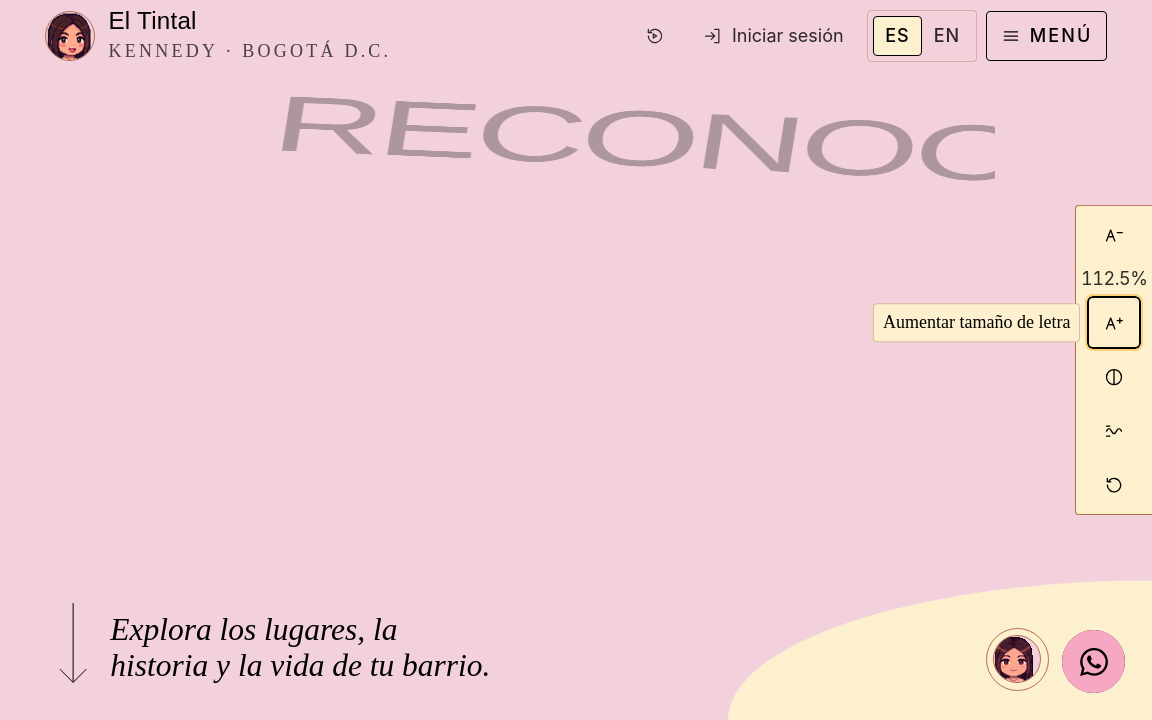
AccessibilityRail › cambia el tamaño de letra en 4 niveles (90–125 %) y lo anuncia
Earlier steps of the test are not shown.
What coordinates should you click on to do the following:
click the button named "Aumentar tamaño de letra"
I would click on:
 (1114, 323)
Its box is top-left (1090, 298), bottom-right (1139, 347).
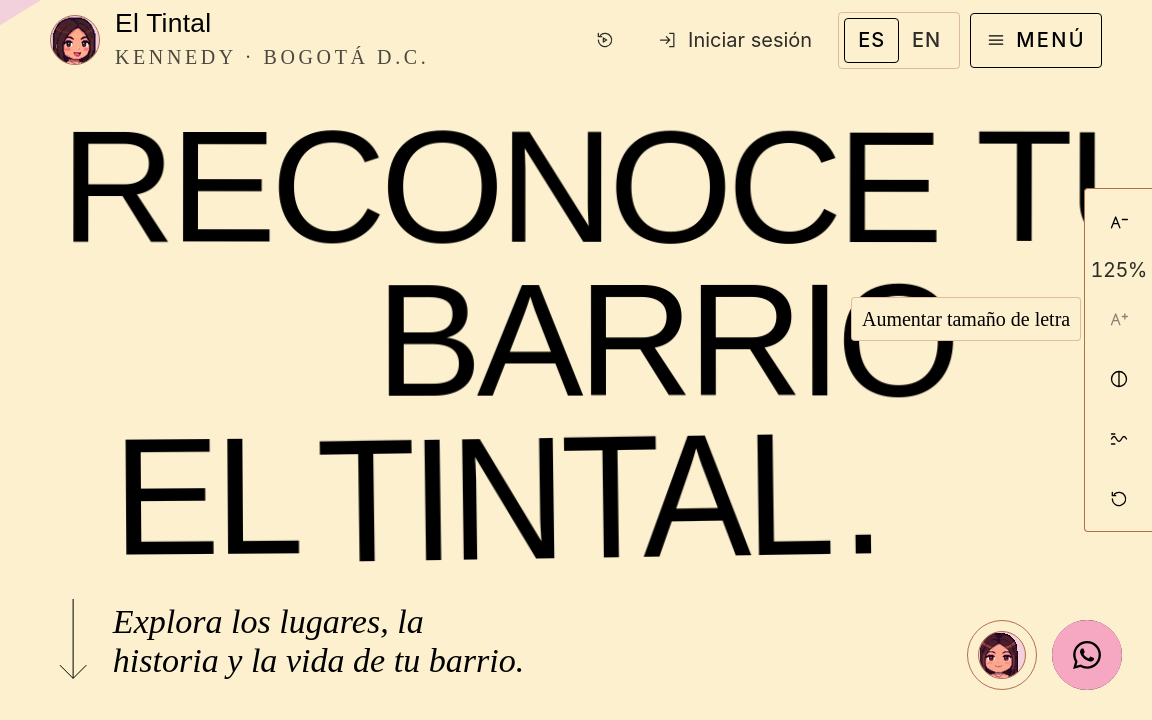
Check: the button named "Aumentar tamaño de letra" is disabled, box top-left (1091, 291), bottom-right (1146, 346)
What coordinates should you click on to do the following:
click the button named "Reducir tamaño de letra"
I would click on:
 (1119, 222)
Its box is top-left (1091, 194), bottom-right (1146, 249).
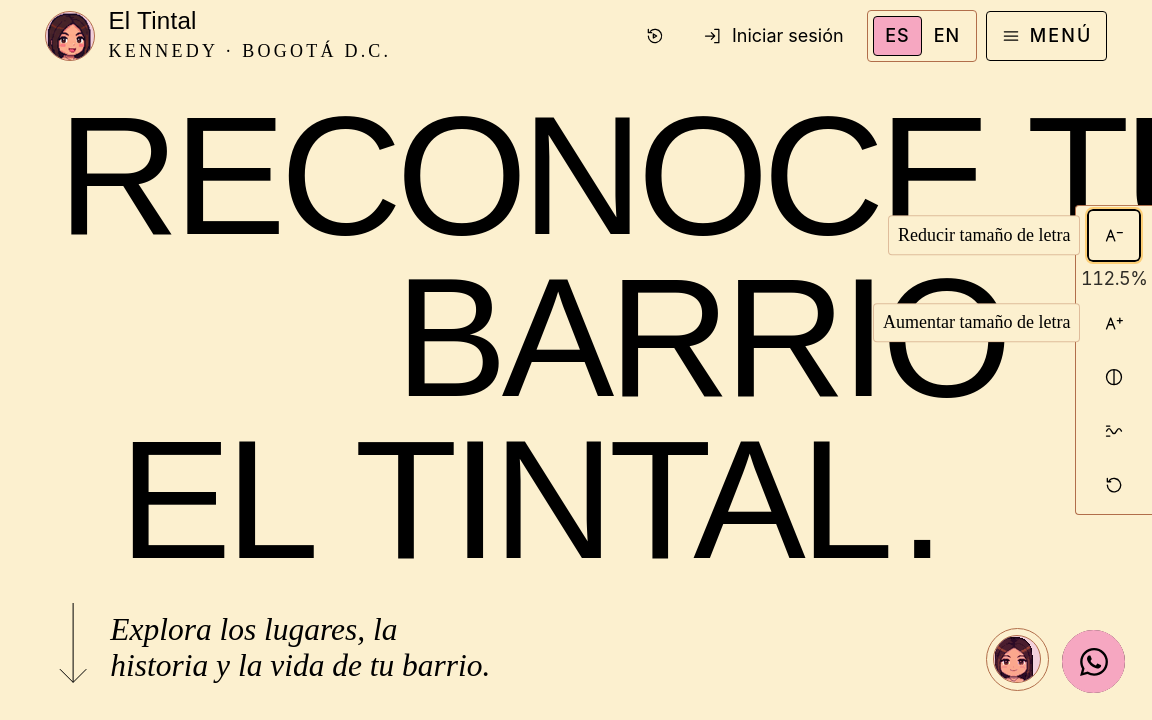
What coordinates should you click on to do the following:
click the button named "Reducir tamaño de letra"
I would click on:
 (1114, 235)
Its box is top-left (1090, 211), bottom-right (1139, 260).
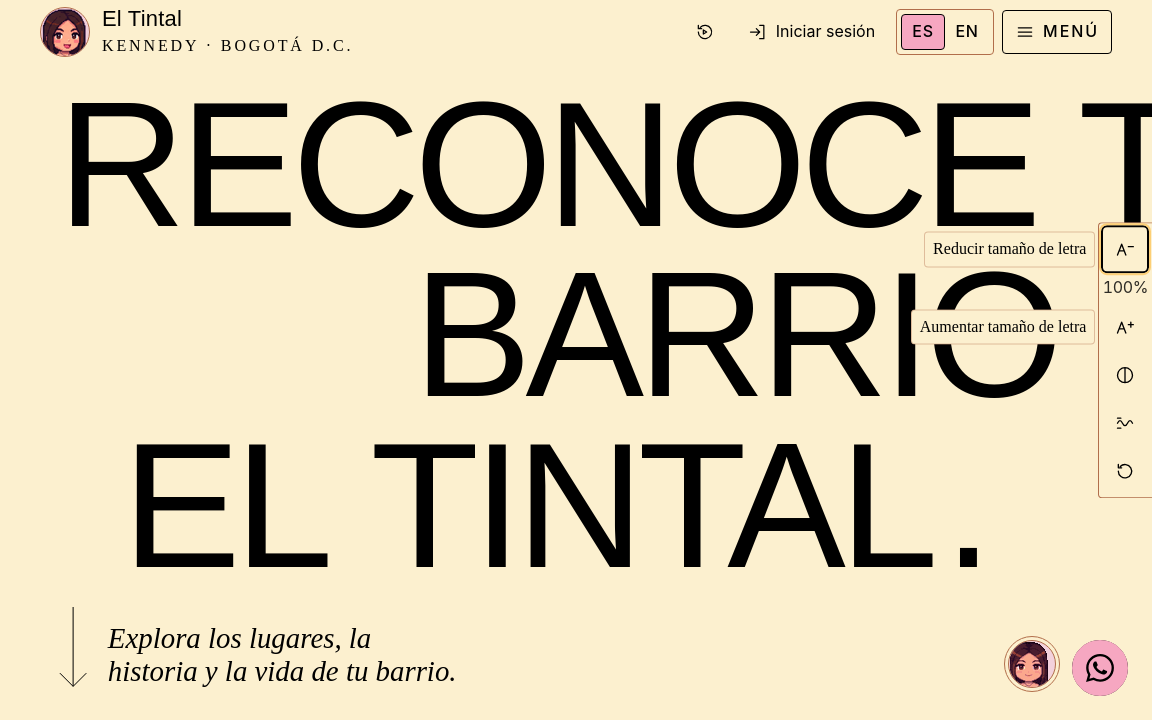
What coordinates should you click on to do the following:
click the button named "Reducir tamaño de letra"
I would click on:
 (1125, 249)
Its box is top-left (1103, 227), bottom-right (1147, 271).
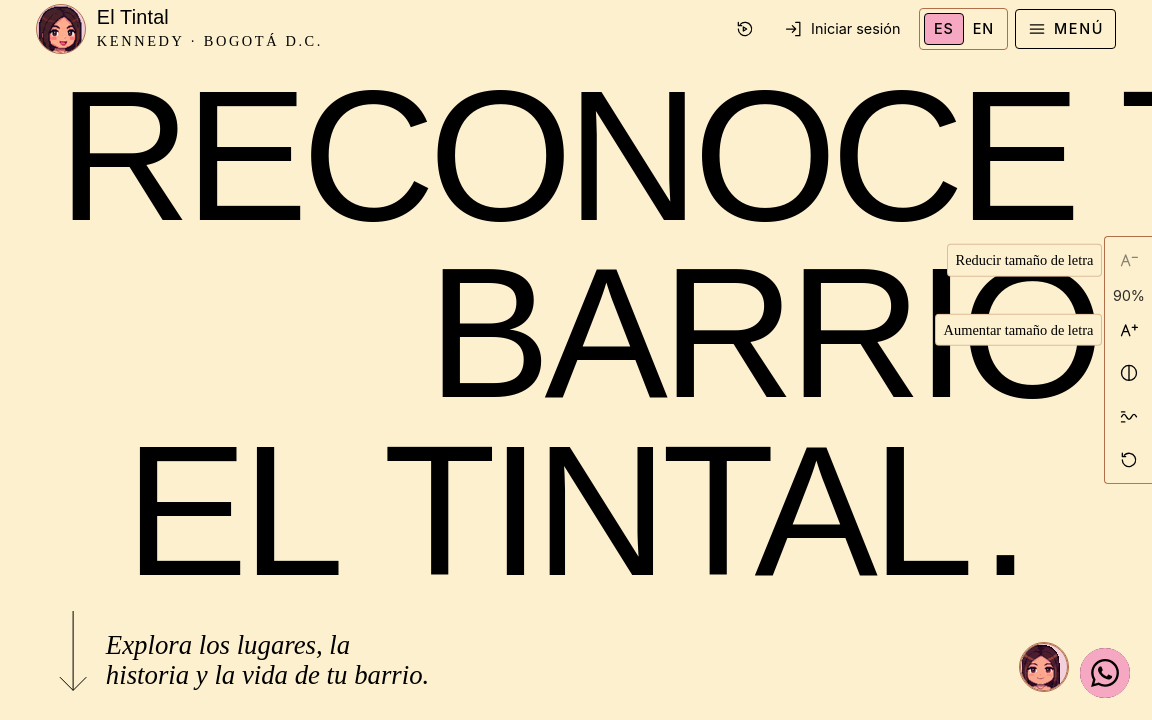
Check: the button named "Reducir tamaño de letra" is disabled, box top-left (1109, 240), bottom-right (1148, 280)
